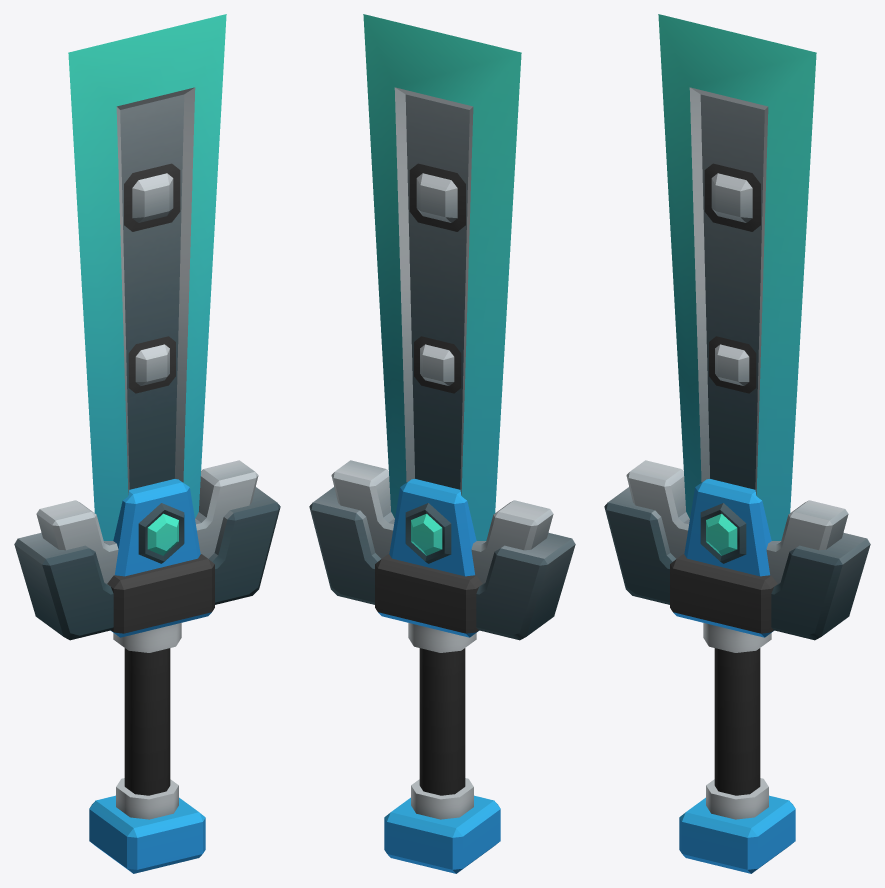
File: Sword04.fbx
The picture shows the model from 3 angles, left to right: view 1: azimuth 30°, elevation 25°; view 2: azimuth 150°, elevation 25°; view 3: azimuth 330°, elevation 25°; orthographic projection.
Parts seen in each view (by area): view 1: Sword04; view 2: Sword04; view 3: Sword04.
Part boxes in pixels (x1,y1,x2,y2): Sword04: [14, 14, 280, 873]; Sword04: [309, 14, 575, 873]; Sword04: [604, 14, 870, 873].
Size of the model in its own units: 15.76 by 51.7 by 5.2.
